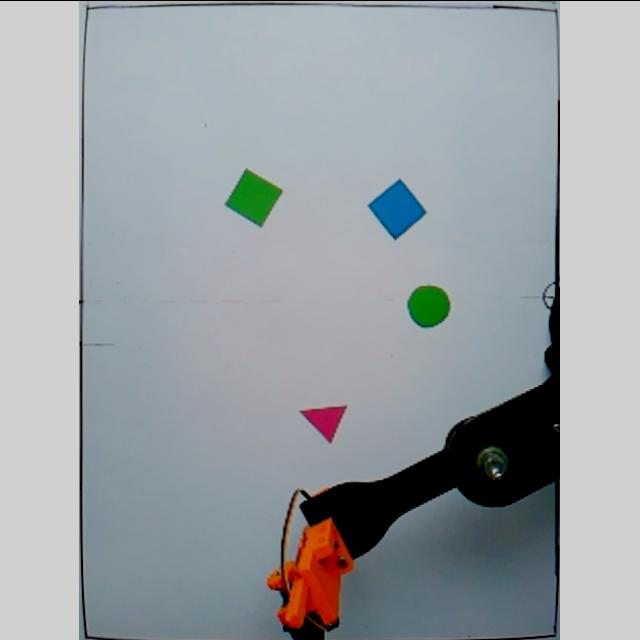blueSquare: (369, 177, 428, 241)
greenCircle: (409, 283, 453, 327)
greenSquare: (226, 167, 286, 226)
pinkTriangle: (300, 400, 350, 444)
